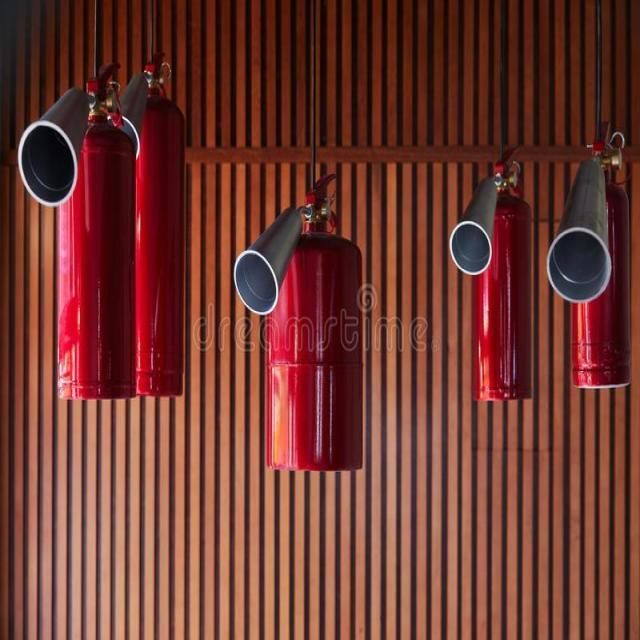FireExtinguisher: (15, 51, 145, 402), (232, 168, 370, 474), (96, 49, 192, 396), (542, 116, 636, 392), (445, 136, 536, 404)
